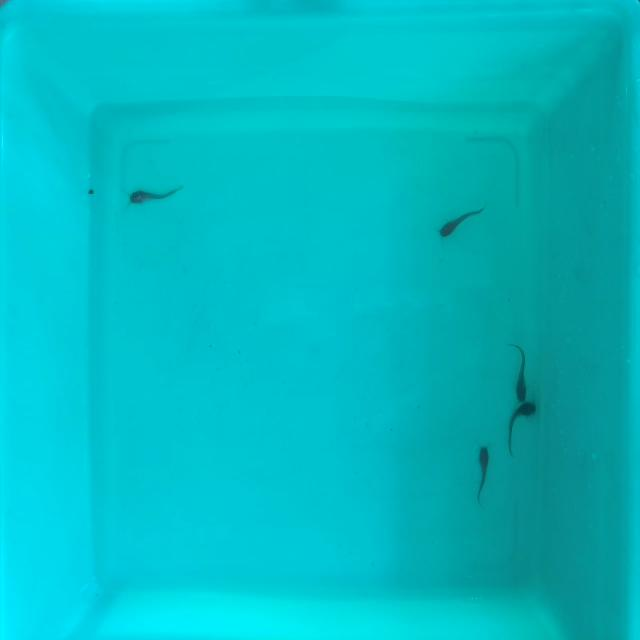lele: (438, 199, 491, 241), (507, 402, 538, 458), (127, 186, 183, 206), (509, 341, 526, 401), (476, 444, 488, 506)
